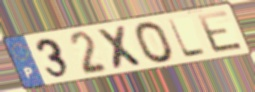2: (68, 29, 111, 78)
3: (35, 36, 75, 82)
E: (194, 8, 247, 54)
L: (165, 17, 209, 59)
O: (132, 20, 176, 65)
X: (94, 24, 148, 71)
